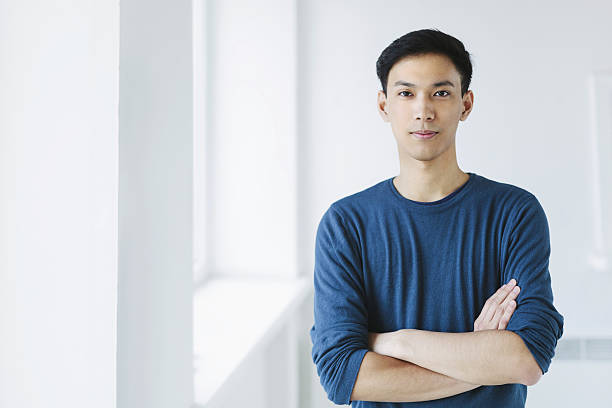person: (375, 27, 475, 171)
